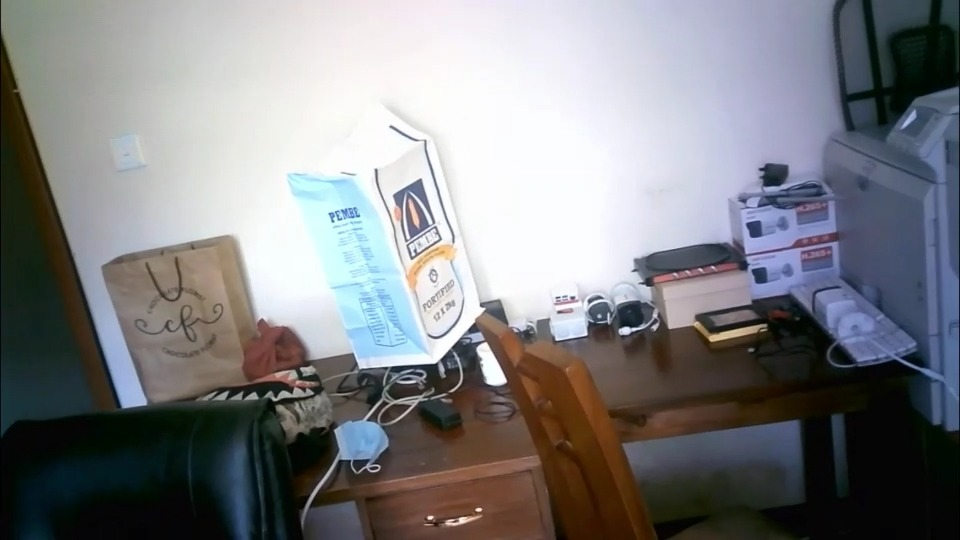wheat_flour_blue_label: (282, 110, 485, 365)
